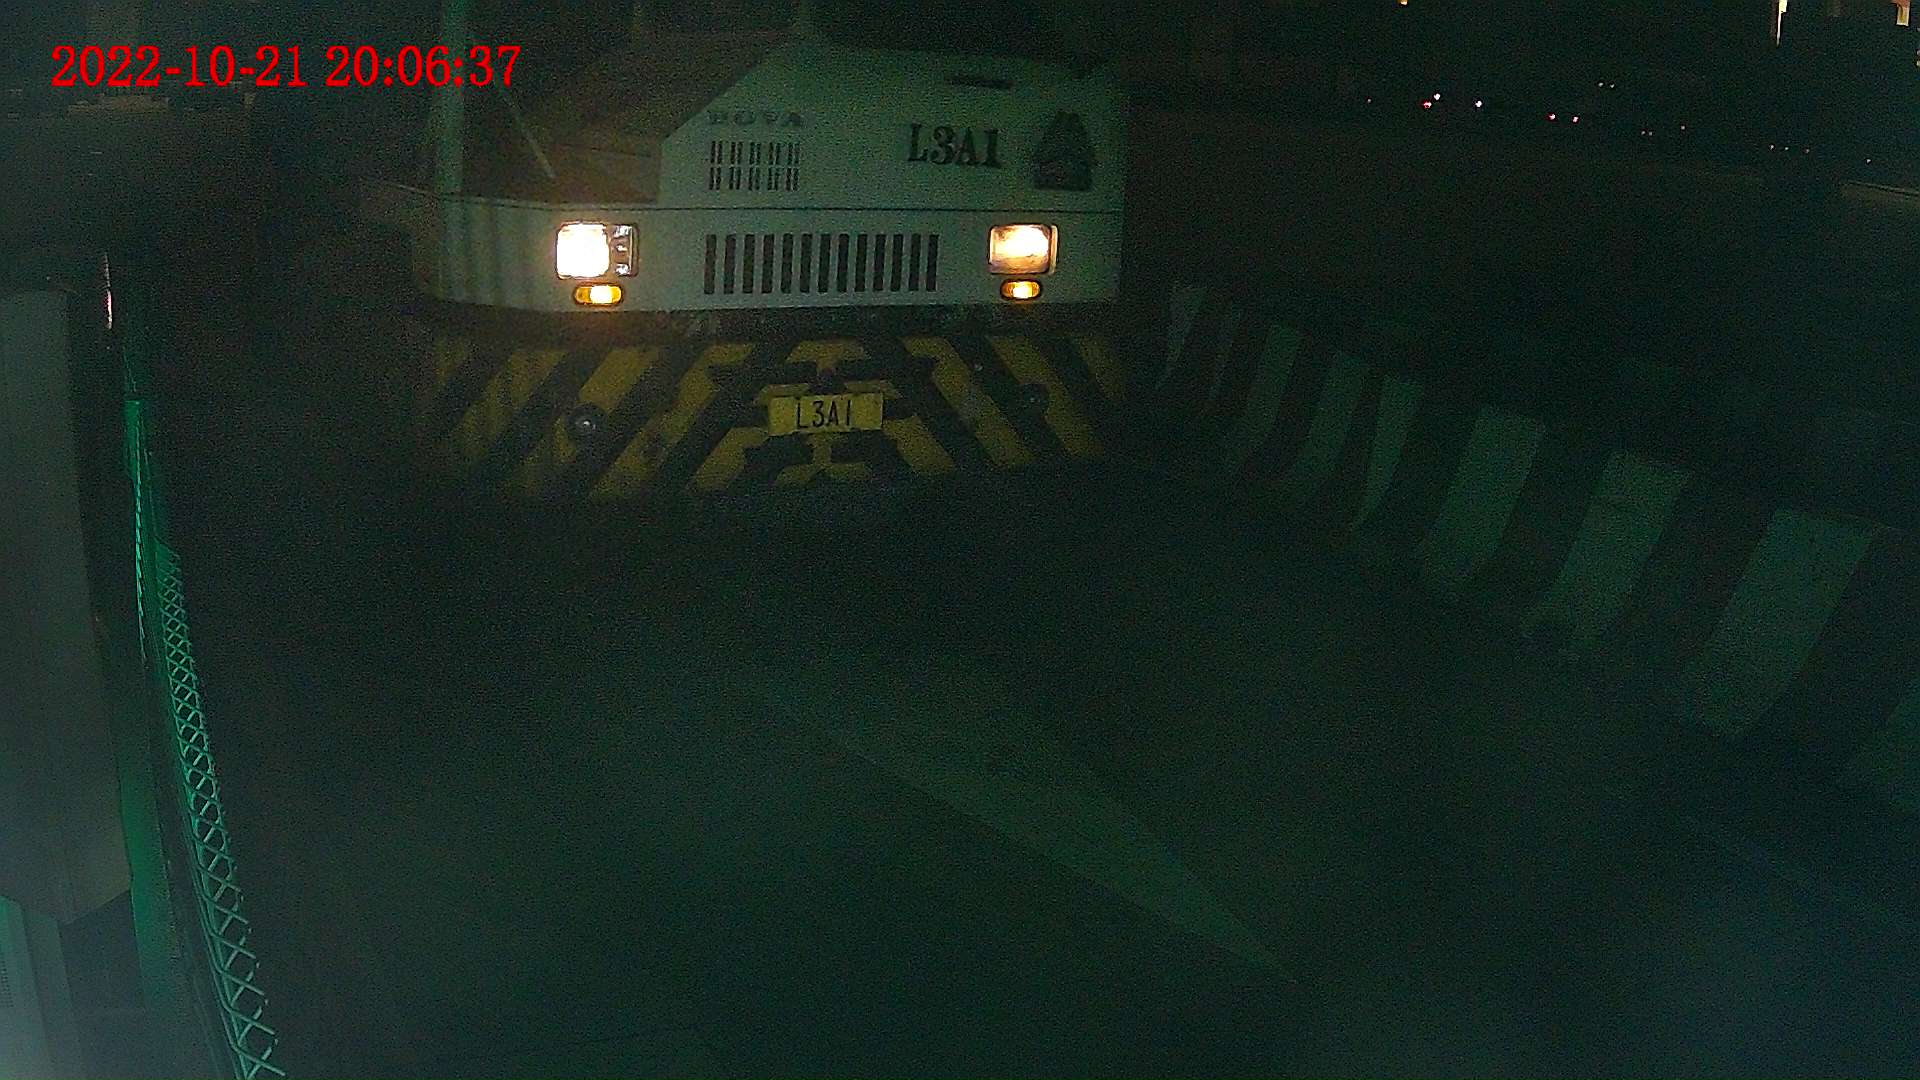head: (371, 1, 1141, 505)
plate: (766, 390, 887, 435)
